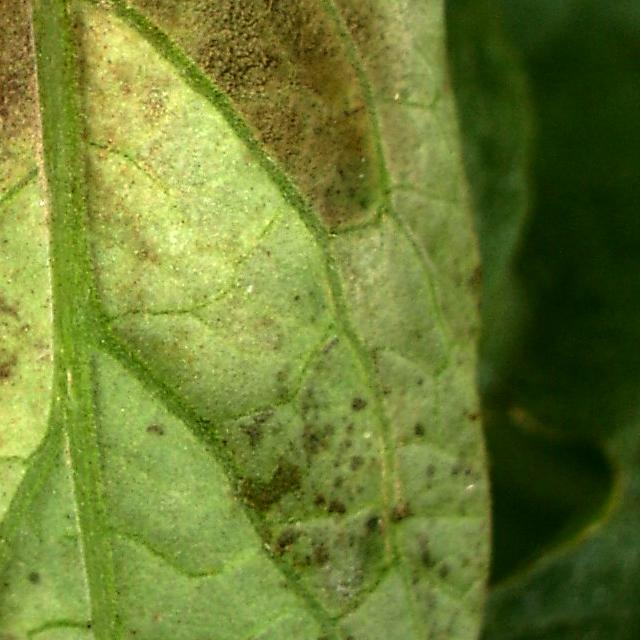Tomato mold leaf: (0, 0, 549, 640)
